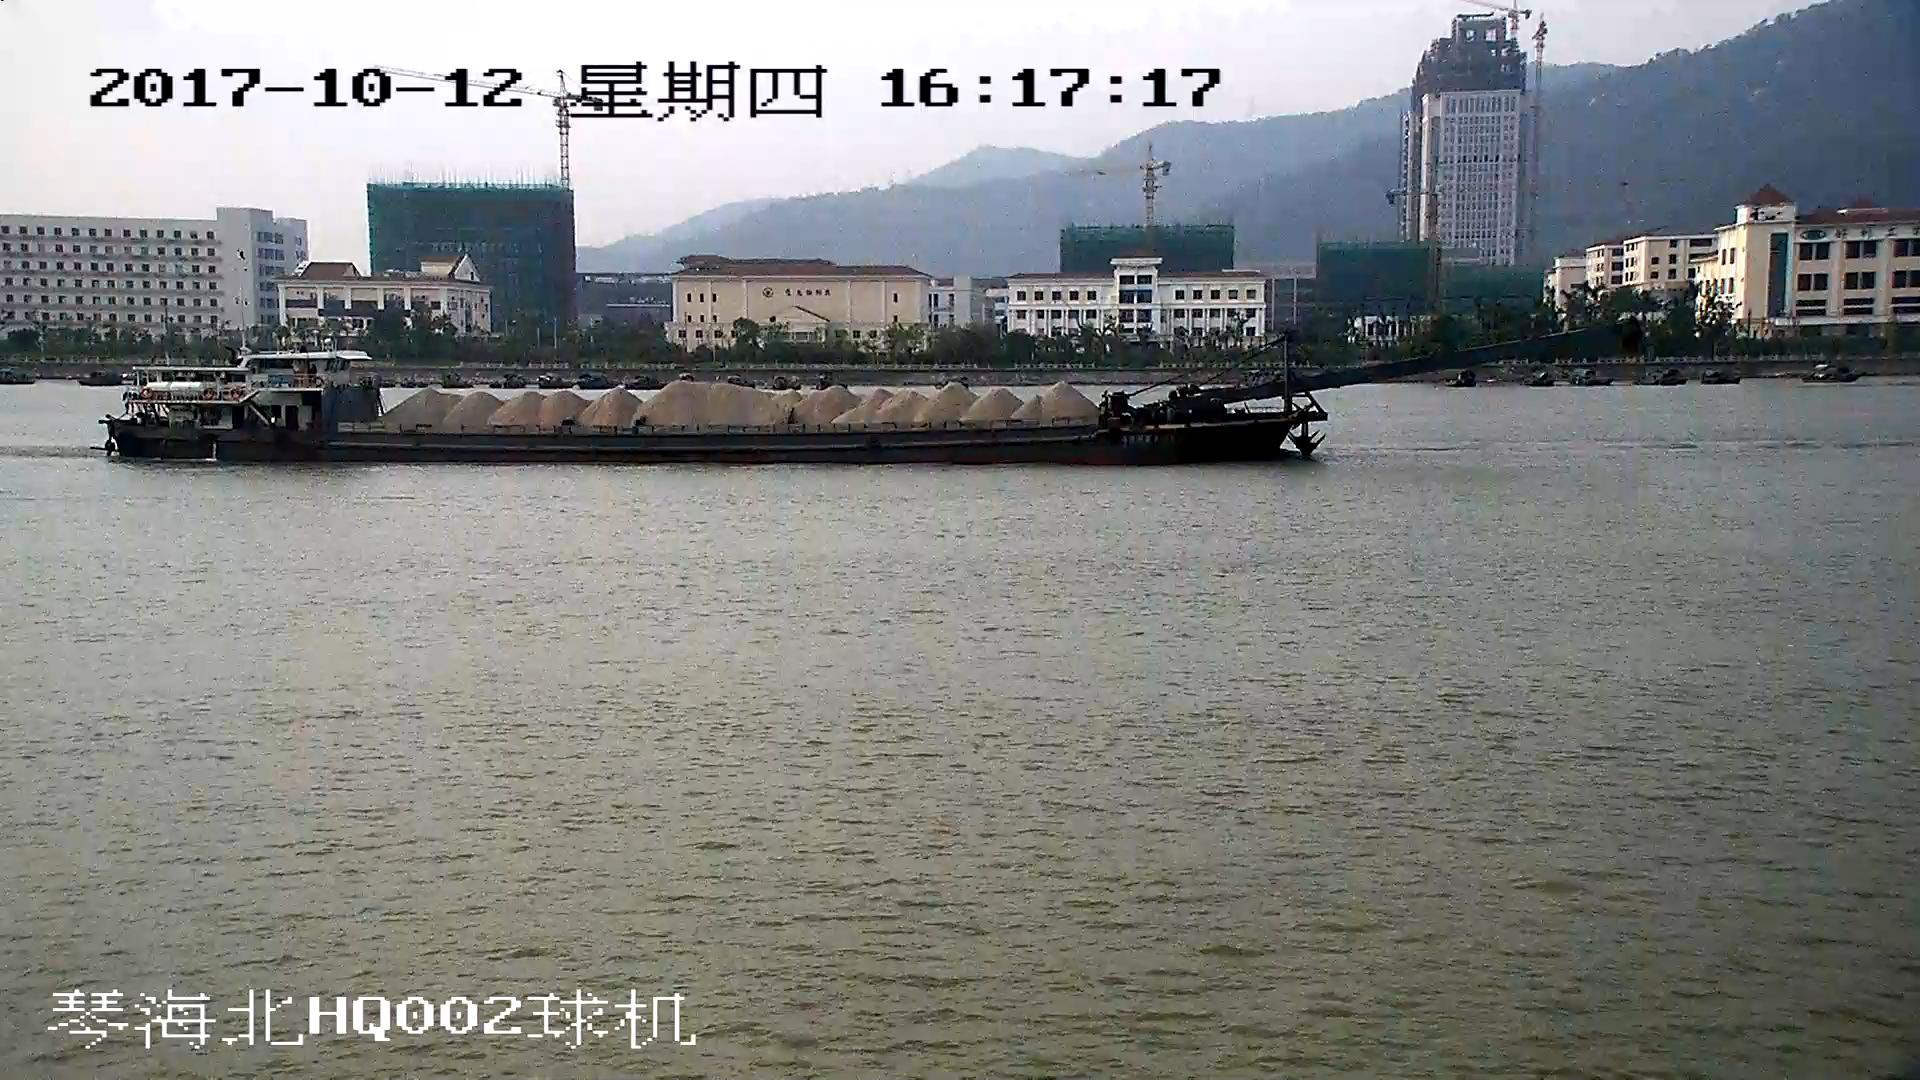ore carrier: (105, 317, 1624, 458)
